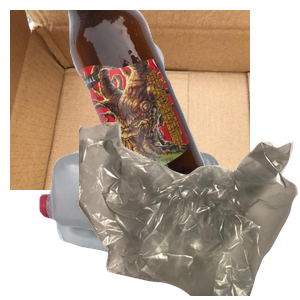cardboard: (10, 10, 250, 190)
glass: (65, 10, 300, 190)
plastic: (37, 147, 254, 300)
trash: (79, 120, 300, 300)
